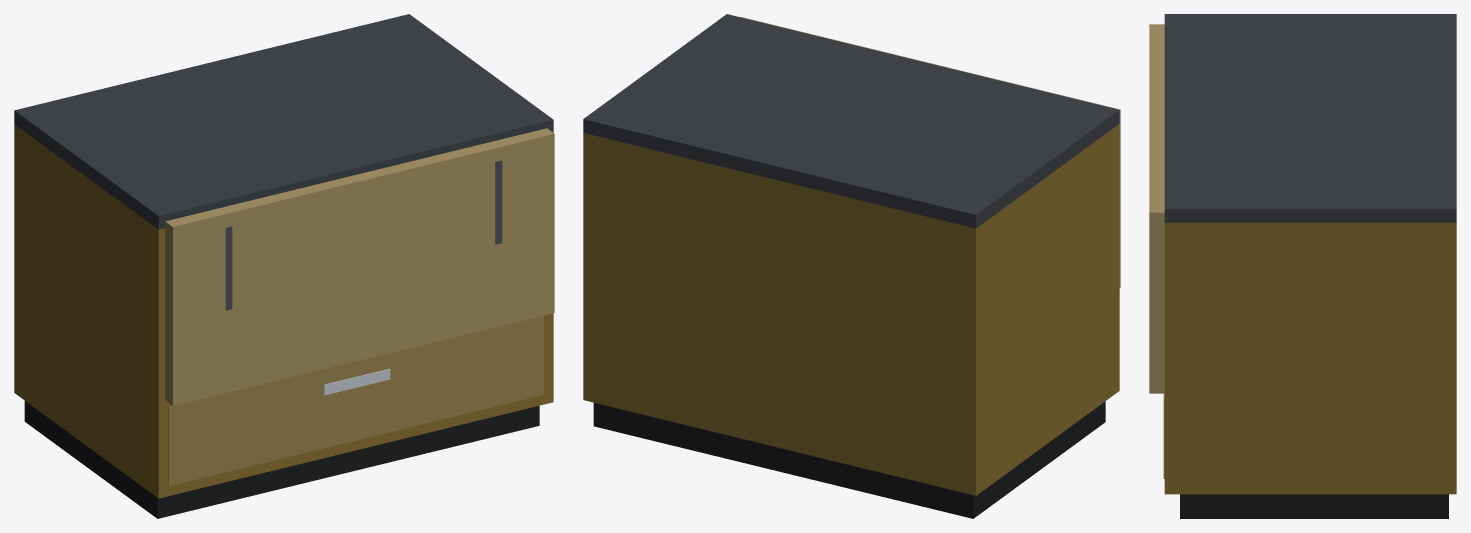
File: fold_down_breakfast_bar.glb
The picture shows the model from 3 angles, left to right: view 1: azimuth 30°, elevation 25°; view 2: azimuth 150°, elevation 25°; view 3: azimuth 270°, elevation 25°; orthographic projection.
Parts seen in each view (by area): view 1: fold_down_breakfast_bar_Body, fold_down_breakfast_bar_Leaf, fold_down_breakfast_bar_BracketL, fold_down_breakfast_bar_BracketR; view 2: fold_down_breakfast_bar_Body, fold_down_breakfast_bar_Leaf; view 3: fold_down_breakfast_bar_Body, fold_down_breakfast_bar_Leaf.
Boxes of the visible parts, left/top/right/bottom form: fold_down_breakfast_bar_Body: left=14, top=14, right=553, bottom=518; fold_down_breakfast_bar_Leaf: left=165, top=128, right=554, bottom=405; fold_down_breakfast_bar_BracketL: left=225, top=226, right=232, bottom=310; fold_down_breakfast_bar_BracketR: left=495, top=160, right=502, bottom=244; fold_down_breakfast_bar_Body: left=583, top=14, right=1119, bottom=518; fold_down_breakfast_bar_Leaf: left=741, top=17, right=1120, bottom=287; fold_down_breakfast_bar_Body: left=1163, top=14, right=1456, bottom=518; fold_down_breakfast_bar_Leaf: left=1149, top=24, right=1164, bottom=393.
Bounding box in the file's own units: 1.2 × 0.9 × 0.8005.
